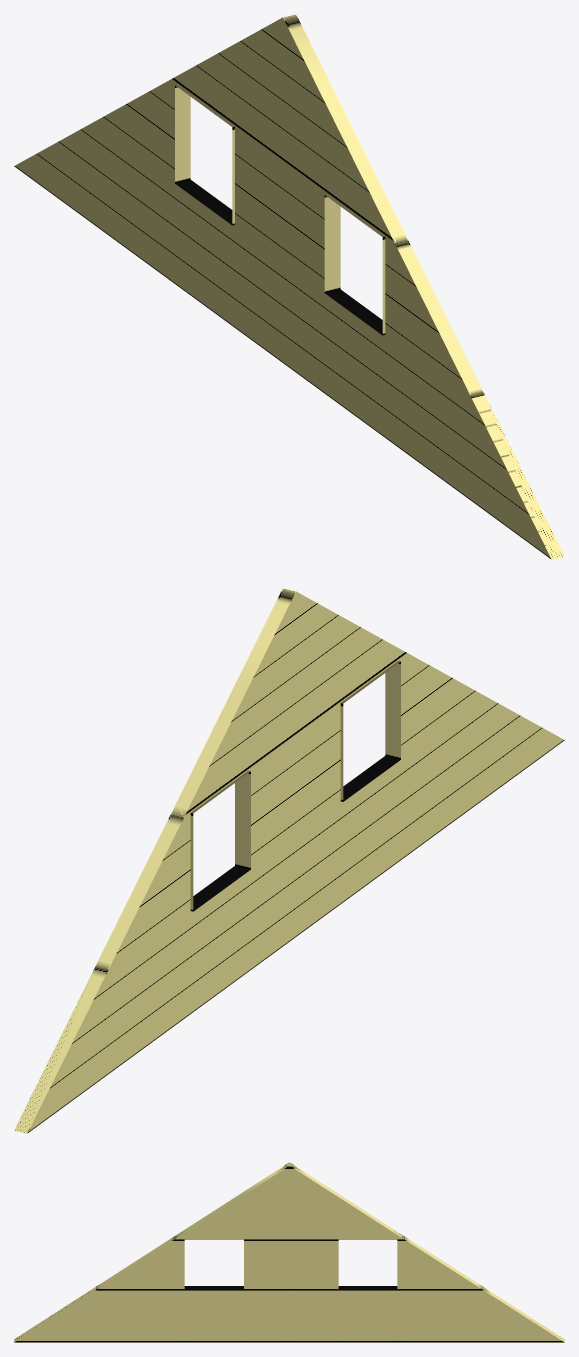
File: triangulo2.obj
3 renders of one model, top to bottom at view 1: azimuth 30°, elevation 25°; view 2: azimuth 150°, elevation 25°; view 3: azimuth 270°, elevation 25°, orthographic. The views are drawn at different scales.
Visible parts, largest first — view 1: pasted__pCube30 group64; view 2: pasted__pCube30 group64; view 3: pasted__pCube30 group64.
Part boxes in pixels (x1=…): pasted__pCube30 group64: x1=14, y1=14, x2=564, y2=559; pasted__pCube30 group64: x1=14, y1=588, x2=564, y2=1133; pasted__pCube30 group64: x1=14, y1=1162, x2=564, y2=1342.
Size of the model in its own units: 0.1316 by 2.74 by 7.72.
1 material, 1 textured.
